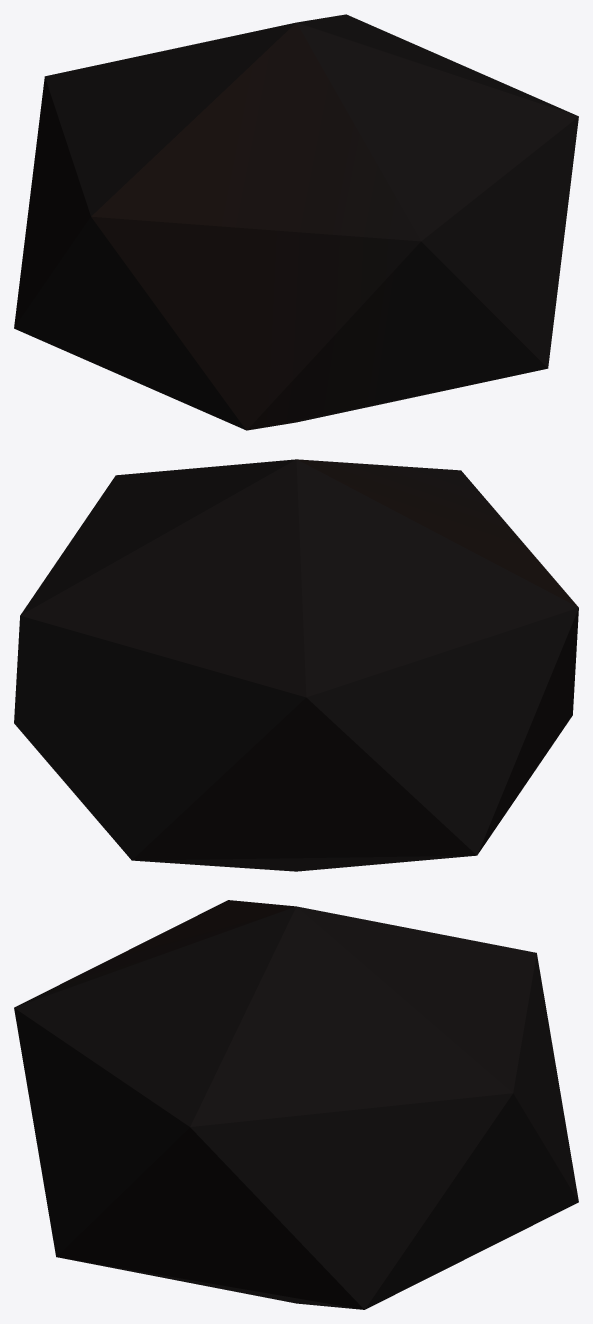
File: Dirt.fbx
The picture shows the model from 3 angles, top to bottom: view 1: azimuth 30°, elevation 25°; view 2: azimuth 150°, elevation 25°; view 3: azimuth 270°, elevation 25°; orthographic projection. The views are drawn at different scales.
Parts seen in each view (by area): view 1: Icosphere; view 2: Icosphere; view 3: Icosphere.
Part boxes in pixels (x1=…): Icosphere: x1=14, y1=14, x2=578, y2=430; Icosphere: x1=14, y1=459, x2=578, y2=871; Icosphere: x1=14, y1=900, x2=578, y2=1309.
Size of the model in its own units: 464 by 370 by 477.
